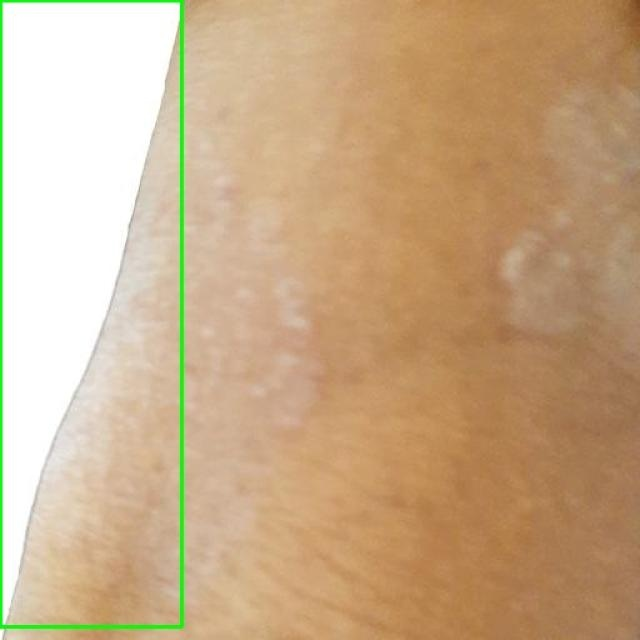Tinea Corporis: (0, 0, 181, 626)
